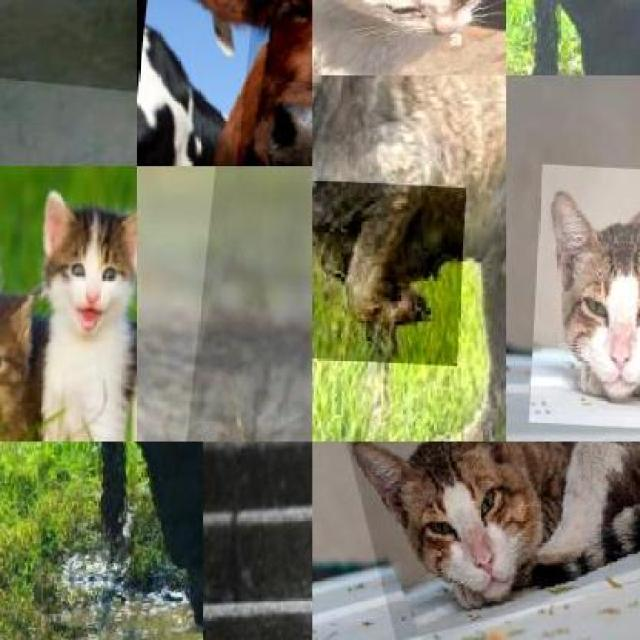buffalo: (174, 166, 312, 442), (18, 441, 203, 640)
cat: (329, 441, 640, 640), (527, 163, 640, 441), (31, 198, 137, 442), (312, 0, 506, 75), (0, 288, 51, 442)
cow: (226, 0, 312, 166)
dog: (312, 76, 506, 442), (0, 0, 137, 122)
injured: (312, 179, 465, 366)
